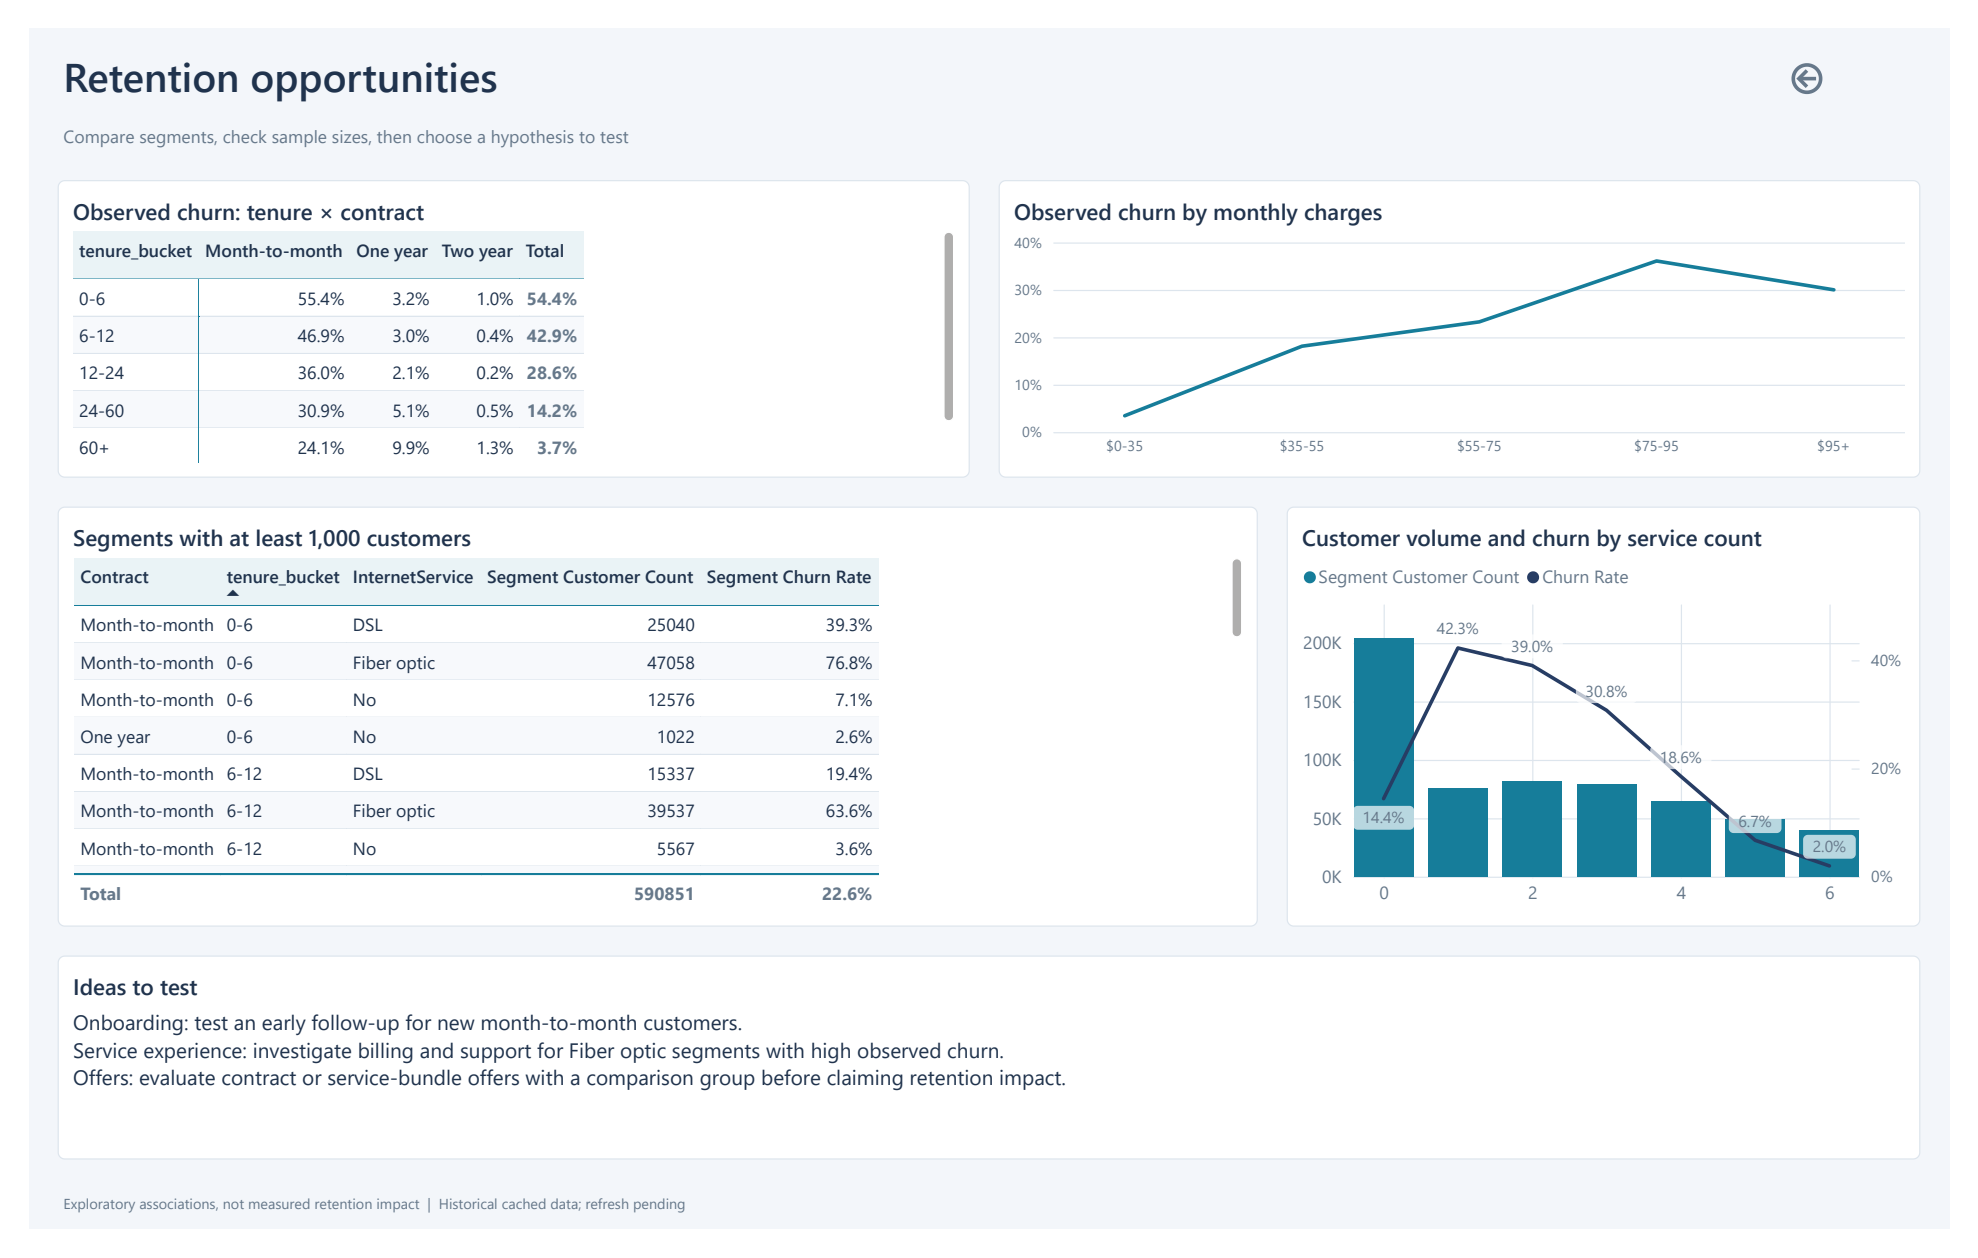

The page's visual inventory and layout, read from the dashboard file:
{"tool":"powerbi","page":{"name":"Retention Playbook","canvas":[1600,1000],"ordinal":1},"visuals":[{"type":"pivotTable","title":"Observed churn: tenure × contract","fields":{"Rows":["train.tenure_bucket"],"Columns":["train.Contract"],"Values":["train.Segment Churn Rate"]},"box":[24,126,760,248],"z":0},{"type":"textbox","box":[24,12,1000,64],"z":1000},{"type":"lineChart","title":"Observed churn by monthly charges","fields":{"Y":["train.Segment Churn Rate"],"Category":["train.MonthlyCharges_Bucket"]},"box":[808,126,768,248],"z":2000},{"type":"lineClusteredColumnComboChart","title":"Customer volume and churn by service count","fields":{"Category":["train.service_count"],"Y":["train.Segment Customer Count"],"Y2":["train.Churn Rate"]},"box":[1048,398,528,350],"z":3000},{"type":"tableEx","title":"Segments with at least 1,000 customers","fields":{"Values":["train.Contract","train.tenure_bucket","train.InternetService","train.Segment Customer Count","train.Segment Churn Rate"]},"box":[24,398,1000,350],"z":4000},{"type":"actionButton","box":[1464,24,112,35],"z":5000},{"type":"textbox","title":"Ideas to test","box":[24,772,1552,170],"z":6000},{"type":"textbox","box":[24,74,1200,38],"z":40000},{"type":"textbox","box":[24,962,1552,34],"z":40000}]}

Visuals, with their boxes in screenshot pixels (x1, y1, x2, y2), scaled from the page's 1600x1000 canvas onto the 1978x1258 screenshot:
"Observed churn: tenure × contract" pivotTable: 30/159/969/470
textbox: 30/15/1266/96
"Observed churn by monthly charges" lineChart: 999/159/1948/470
"Customer volume and churn by service count" lineClusteredColumnComboChart: 1296/501/1948/941
"Segments with at least 1,000 customers" tableEx: 30/501/1266/941
actionButton: 1810/30/1948/74
"Ideas to test" textbox: 30/971/1948/1185
textbox: 30/93/1513/141
textbox: 30/1210/1948/1253
